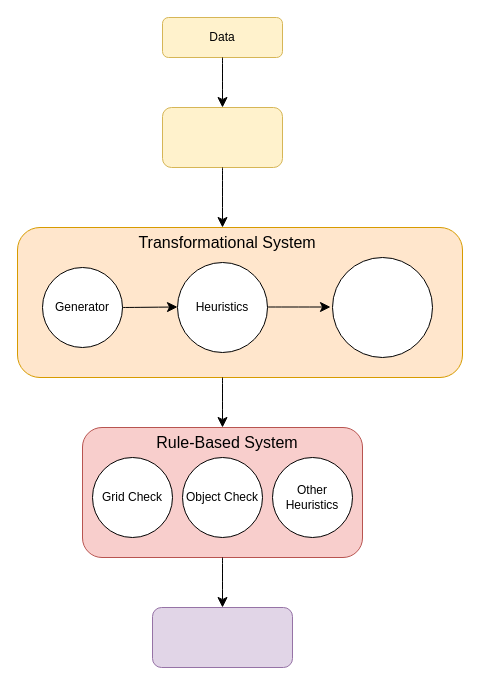
Some shapes in this 480 by 685 pixel diagram are drawn without their labels. The box of each missing label's shape, as (x1, y1, x2, y2) in pixels:
Color Transformation: (152, 606, 292, 668)
Representation Structures: (162, 106, 282, 168)
Transformational Primitives: (332, 256, 432, 358)
